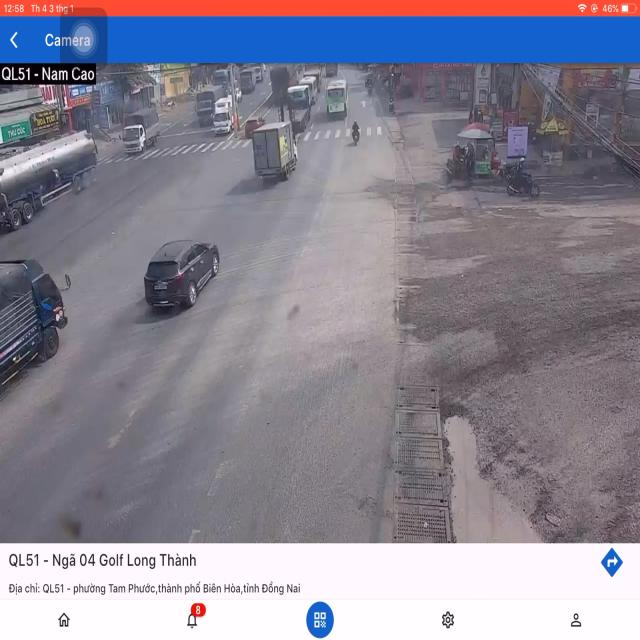bus: (326, 78, 346, 122)
car: (142, 240, 218, 315)
truck: (0, 128, 97, 228), (0, 264, 61, 420), (254, 120, 297, 180), (122, 107, 161, 156), (280, 87, 310, 127), (196, 84, 220, 128), (211, 95, 234, 134)
